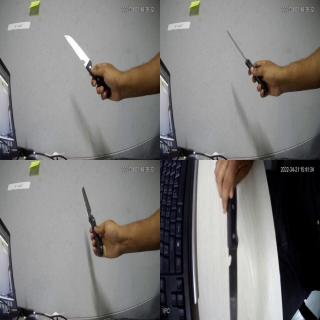knife: (60, 29, 114, 100), (223, 22, 269, 96), (223, 198, 247, 320), (78, 179, 108, 261)
